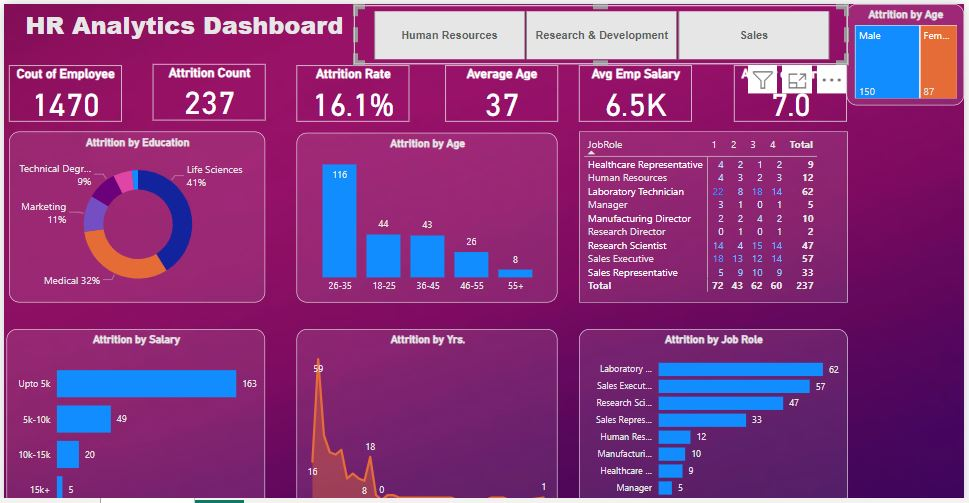

The dashboard page shown, as its layout file describes it:
{"tool":"powerbi","page":{"name":"Page 1","canvas":[1280,720],"ordinal":0},"visuals":[{"type":"card","title":"Cout of Employee","fields":{"Values":["CountNonNull(HR_Analytics.EmpID)"]},"box":[6.7,81.7,150,75],"z":0},{"type":"card","title":"Attrition Count","fields":{"Values":["Sum(HR_Analytics.AttritionCount)"]},"box":[198.3,80,150,75],"z":1000},{"type":"card","title":"Attrition Rate","fields":{"Values":["HR_Analytics.AttritionRate"]},"box":[390,81.7,150,75],"z":2000},{"type":"card","title":"Average Age","fields":{"Values":["Avg(HR_Analytics.Age)"]},"box":[588.3,81.7,150,75],"z":3000},{"type":"card","title":"Avg Emp Salary","fields":{"Values":["Avg(HR_Analytics.MonthlyIncome)"]},"box":[766.7,81.7,150,75],"z":4000},{"type":"card","title":"Ave Yr of Working","fields":{"Values":["Avg(HR_Analytics.YearsAtCompany)"]},"box":[973.3,81.7,150,75],"z":5000},{"type":"donutChart","title":"Attrition by Education","fields":{"Category":["HR_Analytics.EducationField"],"Y":["CountNonNull(HR_Analytics.Attrition)"]},"box":[6.7,170,341.7,228.3],"z":6000},{"type":"columnChart","title":"Attrition by Age","fields":{"Category":["HR_Analytics.AgeGroup"],"Y":["Sum(HR_Analytics.AttritionCount)"]},"box":[390,171.7,348.3,226.7],"z":7000},{"type":"pivotTable","fields":{"Rows":["HR_Analytics.JobRole"],"Columns":["HR_Analytics.EnvironmentSatisfaction"],"Values":["Sum(HR_Analytics.AttritionCount)"]},"box":[766.7,170,358.3,228.3],"z":8000},{"type":"clusteredBarChart","title":"Attrition by Salary","fields":{"Category":["HR_Analytics.SalarySlab"],"Y":["Sum(HR_Analytics.AttritionCount)"]},"box":[3.3,433.3,345,261.7],"z":9000},{"type":"clusteredBarChart","title":"Attrition by  Job Role","fields":{"Category":["HR_Analytics.JobRole"],"Y":["Sum(HR_Analytics.AttritionCount)"]},"box":[766.7,433.3,358.3,261.7],"z":10000},{"type":"areaChart","title":"Attrition by Yrs.","fields":{"Category":["HR_Analytics.YearsAtCompany"],"Y":["Sum(HR_Analytics.AttritionCount)"]},"box":[390,433.3,348.3,261.7],"z":11000},{"type":"treemap","title":"Attrition by Age","fields":{"Group":["HR_Analytics.Gender"],"Values":["Sum(HR_Analytics.AttritionCount)"]},"box":[1123.3,0,156.7,135],"z":12000},{"type":"slicer","fields":{"Values":["HR_Analytics.Department"]},"box":[466.7,1.7,658.3,78.3],"z":13000},{"type":"textbox","box":[24,0,478,62],"z":14000}]}

Visuals, with their boxes on the page's 1280x720 design canvas (x1, y1, x2, y2). These are canvas units, not pixel positions in the 969x503 screenshot, which may show the page scaled, cropped or inside an application window:
"Cout of Employee" card: <box>7,82,157,157</box>
"Attrition Count" card: <box>198,80,348,155</box>
"Attrition Rate" card: <box>390,82,540,157</box>
"Average Age" card: <box>588,82,738,157</box>
"Avg Emp Salary" card: <box>767,82,917,157</box>
"Ave Yr of Working" card: <box>973,82,1123,157</box>
"Attrition by Education" donutChart: <box>7,170,348,398</box>
"Attrition by Age" columnChart: <box>390,172,738,398</box>
pivotTable - HR_Analytics.JobRole x HR_Analytics.EnvironmentSatisfaction: <box>767,170,1125,398</box>
"Attrition by Salary" clusteredBarChart: <box>3,433,348,695</box>
"Attrition by  Job Role" clusteredBarChart: <box>767,433,1125,695</box>
"Attrition by Yrs." areaChart: <box>390,433,738,695</box>
"Attrition by Age" treemap: <box>1123,0,1280,135</box>
slicer - HR_Analytics.Department: <box>467,2,1125,80</box>
textbox: <box>24,0,502,62</box>
